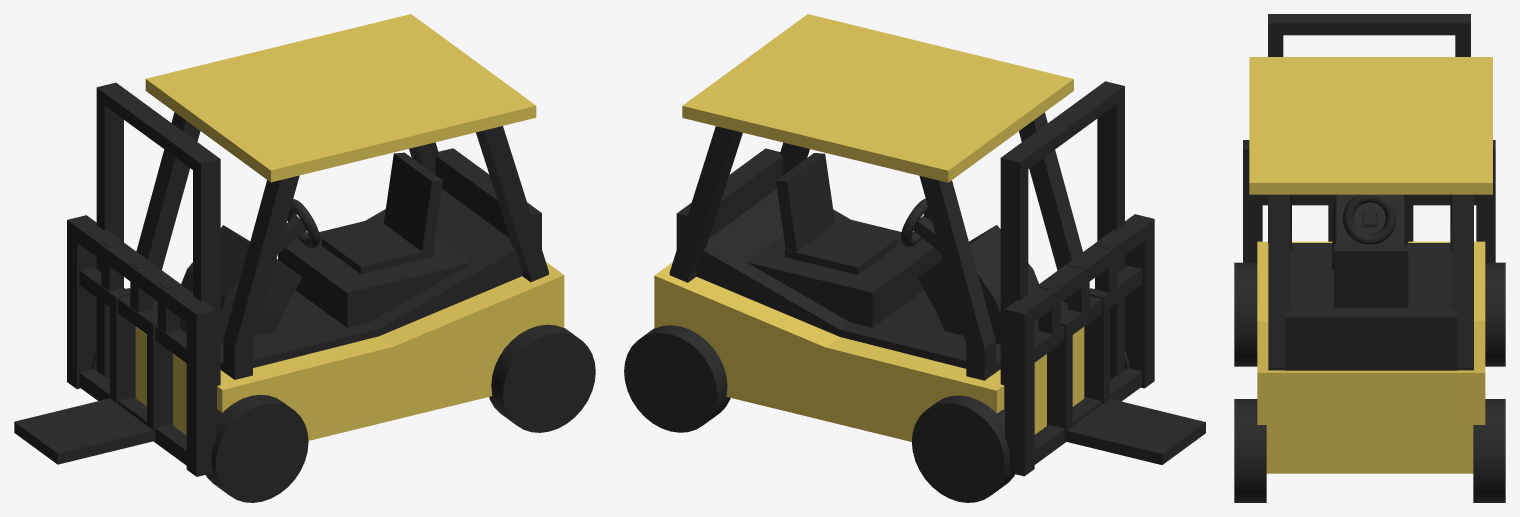
File: tile_construction.fbx
3 views of the same model, side by side, from view 1: azimuth 30°, elevation 25°; view 2: azimuth 150°, elevation 25°; view 3: azimuth 270°, elevation 25° (orthographic). The views are drawn at different scales.
Visible parts, largest first — view 1: Cube.004, Cube, Cube.001, Cube.012, Cube.011, Cube.010, Cube.002, Cube.005, Cylinder.002, Cylinder, Cube.003, Cube.007 (+7 smaller); view 2: Cube.004, Cube, Cube.001, Cube.012, Cube.010, Cube.011, Cube.002, Cube.005, Cylinder.003, Cylinder.001, Cube.003, Cube.007 (+7 smaller); view 3: Cube.004, Cube, Cube.001, Cube.003, Cube.010, Cube.007, Cylinder.002, Cylinder.003, Cube.011, Cylinder, Cube.008, Cube.005 (+3 smaller).
Boxes of the visible parts, left/top/right/bottom form: Cube.004: left=145, top=14, right=536, bottom=182; Cube: left=135, top=262, right=564, bottom=440; Cube.001: left=152, top=148, right=541, bottom=372; Cube.012: left=14, top=266, right=186, bottom=464; Cube.011: left=67, top=215, right=216, bottom=476; Cube.010: left=96, top=82, right=220, bottom=410; Cube.002: left=136, top=112, right=299, bottom=379; Cube.005: left=278, top=216, right=473, bottom=327; Cylinder.002: left=489, top=324, right=595, bottom=432; Cylinder: left=206, top=394, right=308, bottom=502; Cube.003: left=409, top=126, right=548, bottom=282; Cube.007: left=383, top=152, right=442, bottom=251; Cube.004: left=682, top=14, right=1073, bottom=182; Cube: left=654, top=262, right=1084, bottom=441; Cube.001: left=676, top=148, right=1067, bottom=373; Cube.012: left=1034, top=265, right=1205, bottom=464; Cube.010: left=1000, top=81, right=1124, bottom=410; Cube.011: left=1005, top=214, right=1154, bottom=476; Cube.002: left=919, top=112, right=1082, bottom=380; Cube.005: left=746, top=215, right=942, bottom=327; Cylinder.003: left=624, top=325, right=730, bottom=432; Cylinder.001: left=912, top=395, right=1014, bottom=502; Cube.003: left=669, top=126, right=809, bottom=282; Cube.007: left=776, top=153, right=835, bottom=251; Cube.004: left=1249, top=57, right=1492, bottom=194; Cube: left=1257, top=241, right=1485, bottom=473; Cube.001: left=1285, top=243, right=1457, bottom=370; Cube.003: left=1268, top=194, right=1473, bottom=370; Cube.010: left=1268, top=14, right=1470, bottom=242; Cube.007: left=1334, top=244, right=1408, bottom=307; Cylinder.002: left=1234, top=399, right=1266, bottom=502; Cylinder.003: left=1473, top=399, right=1505, bottom=502; Cube.011: left=1243, top=140, right=1495, bottom=262; Cylinder: left=1234, top=262, right=1257, bottom=366; Cube.008: left=1332, top=194, right=1408, bottom=269; Cube.005: left=1302, top=269, right=1437, bottom=307.
Size of the model in its own units: 814 by 534 by 402.
